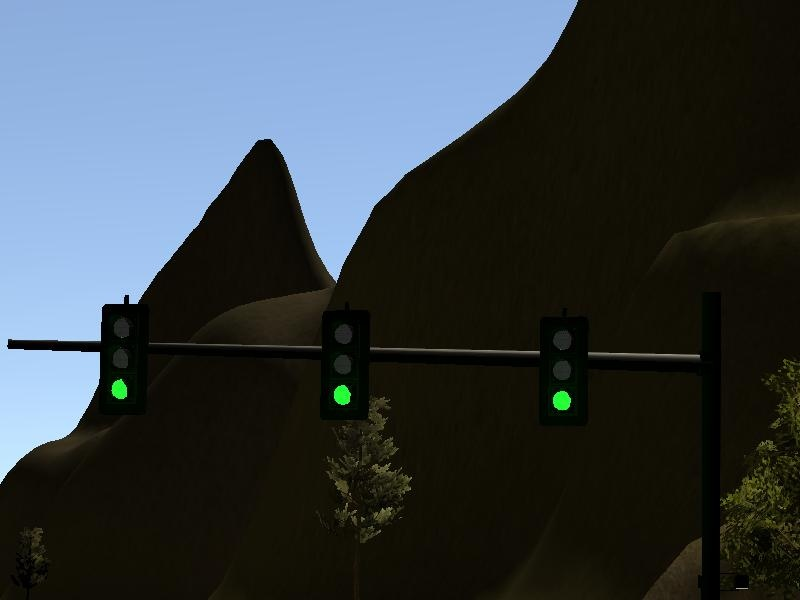green: (309, 290, 372, 424), (95, 294, 162, 408), (533, 303, 591, 429)
